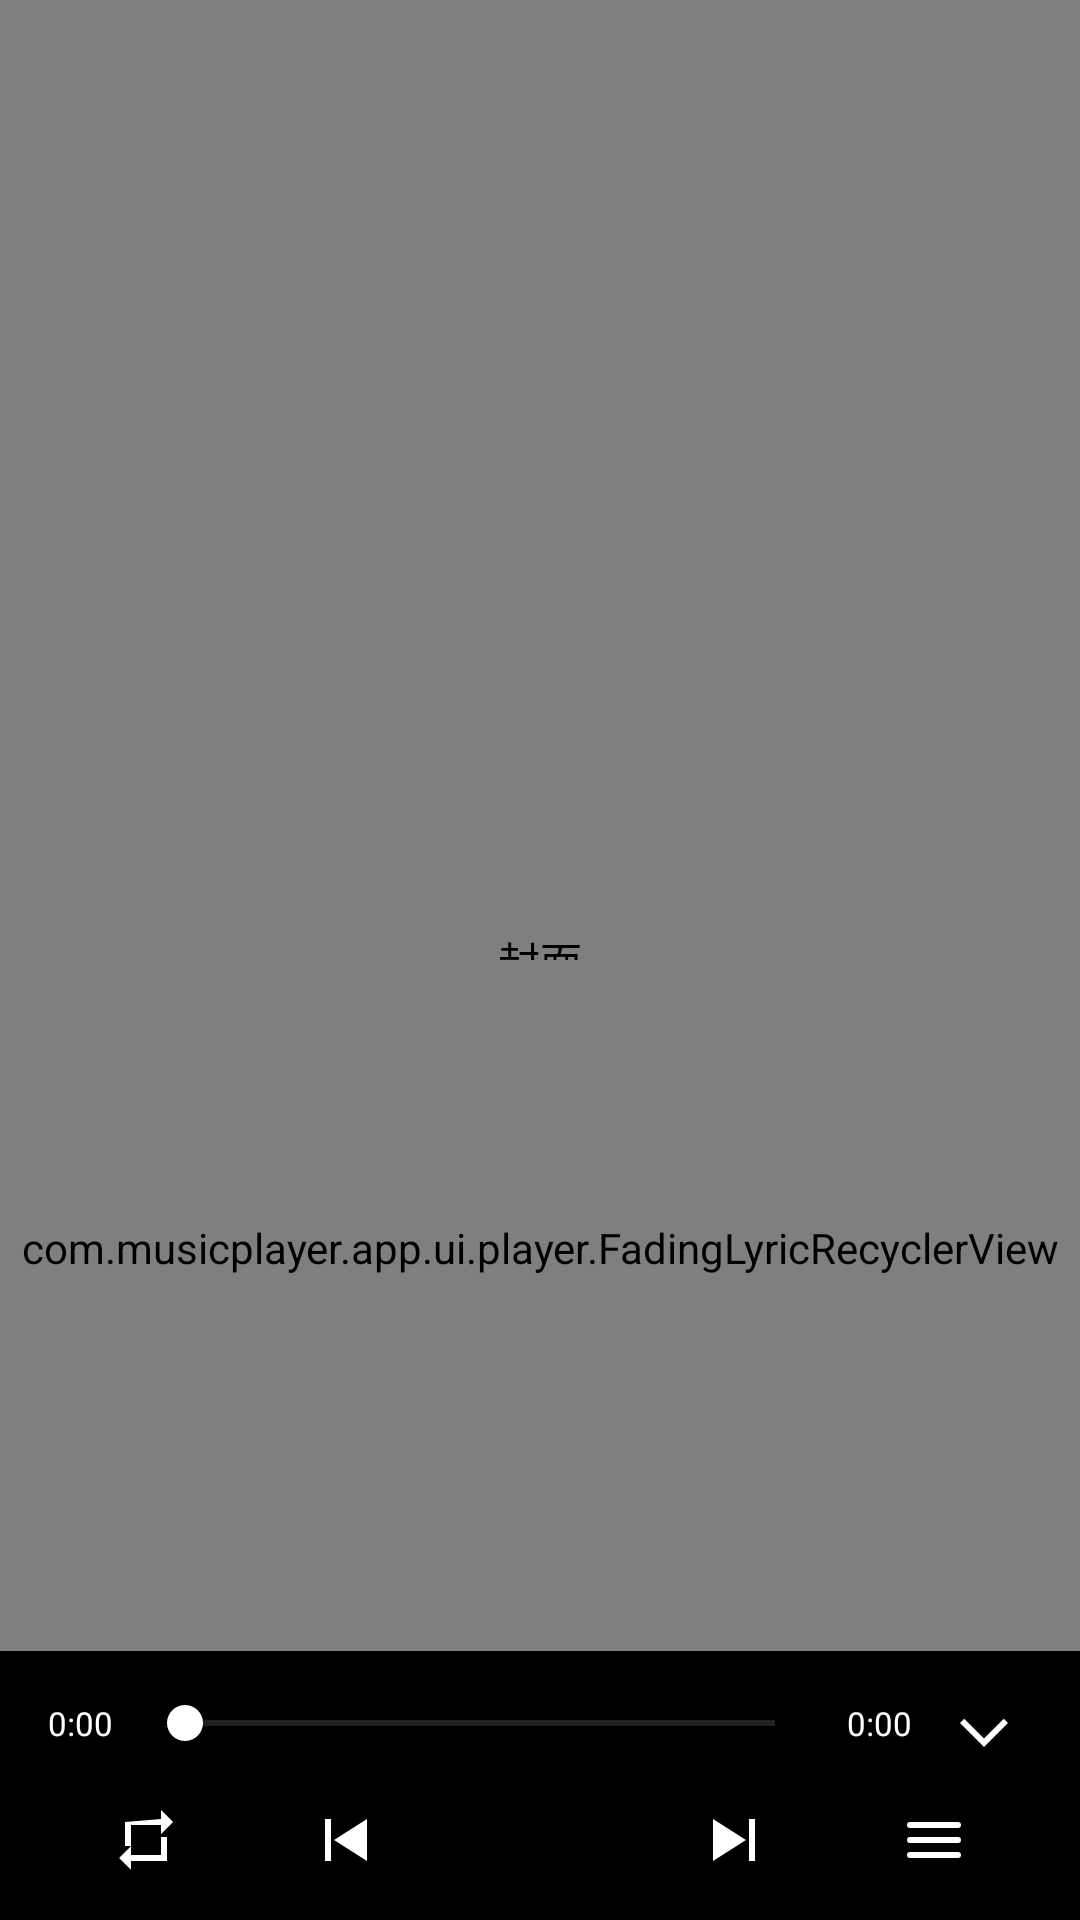

Screen size 1080 × 1920. Icon name, then its center in pixels as point (x, y):
上一首: point (346, 1840)
下一首: point (734, 1840)
循环模式: point (146, 1840)
收起控件: point (984, 1733)
